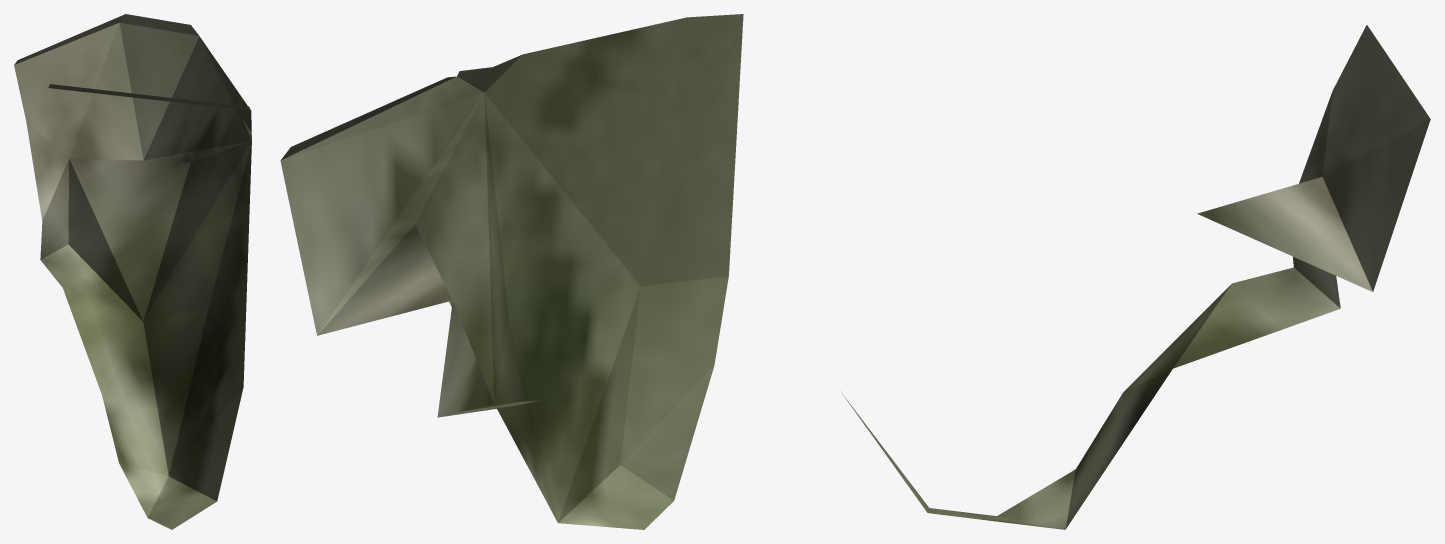
The picture shows the model from 3 angles, left to right: view 1: azimuth 30°, elevation 25°; view 2: azimuth 150°, elevation 25°; view 3: azimuth 270°, elevation 25°; orthographic projection. The views are drawn at different scales.
Bounding box in the file's own units: 0.3184 × 0.6313 × 0.7502.
1 material, 1 textured.
